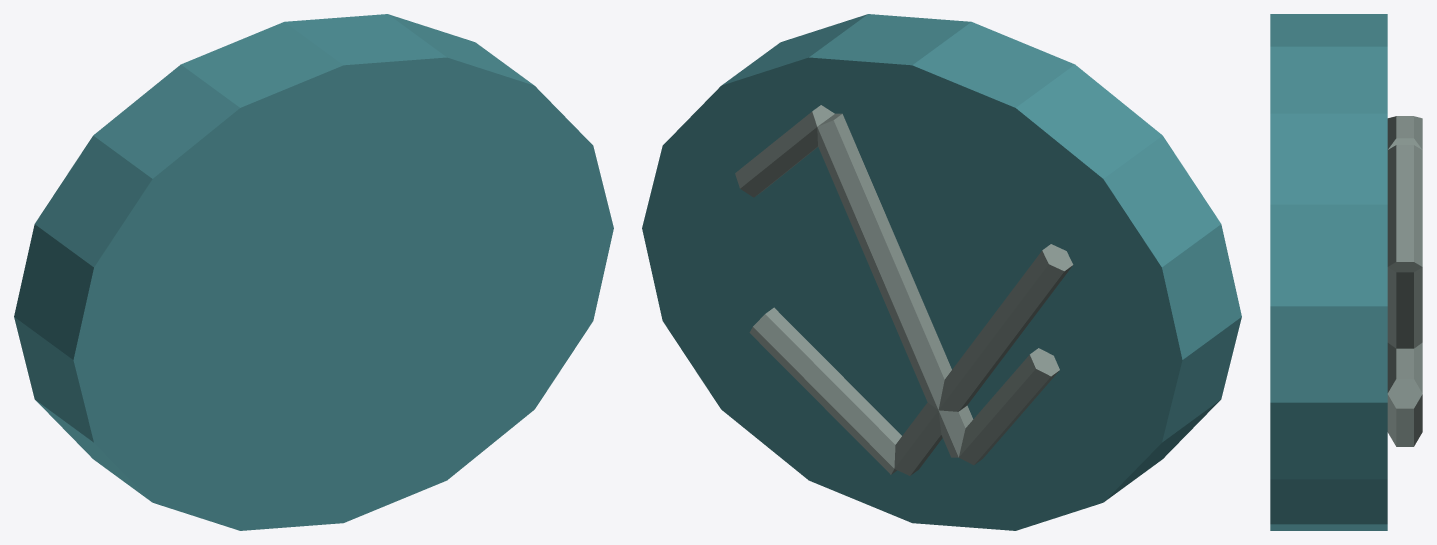
File: AE_Item_TideKnot.fbx
3 renders of one model, left to right at view 1: azimuth 30°, elevation 25°; view 2: azimuth 150°, elevation 25°; view 3: azimuth 270°, elevation 25°, orthographic.
Parts seen in each view (by area): view 1: AE_Item_TideKnot; view 2: AE_Item_TideKnot; view 3: AE_Item_TideKnot.
Boxes of the visible parts, <box> form: AE_Item_TideKnot: <box>14,14,613,530</box>; AE_Item_TideKnot: <box>642,14,1241,530</box>; AE_Item_TideKnot: <box>1270,14,1422,530</box>.
Size of the model in its own units: 0.21 by 0.17 by 0.052.
